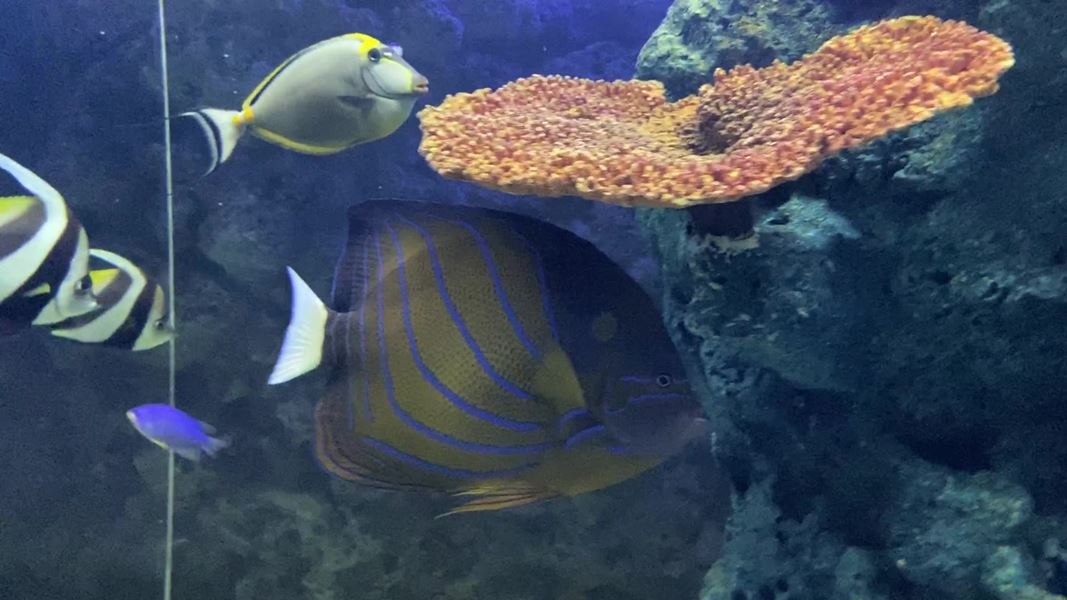Blue ring angelfish: (257, 178, 725, 546)
